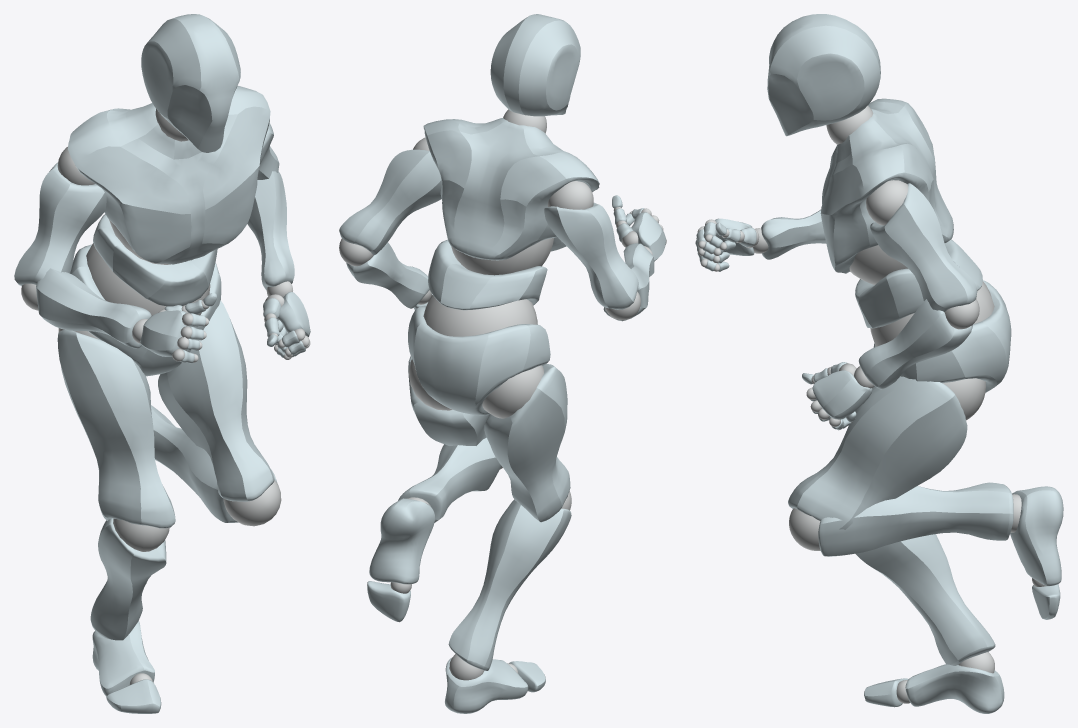
3 renders of one model, left to right at view 1: azimuth 30°, elevation 25°; view 2: azimuth 150°, elevation 25°; view 3: azimuth 270°, elevation 25°, orthographic. The views are drawn at different scales.
Visible parts, largest first — view 1: Alpha_Surface, Alpha_Joints; view 2: Alpha_Surface, Alpha_Joints; view 3: Alpha_Surface, Alpha_Joints.
Part boxes in pixels (x1,y1,x2,y2): Alpha_Surface: [14, 14, 310, 713]; Alpha_Joints: [21, 109, 310, 684]; Alpha_Surface: [339, 14, 665, 713]; Alpha_Joints: [339, 109, 666, 680]; Alpha_Surface: [695, 14, 1063, 713]; Alpha_Joints: [696, 105, 1045, 703].
Size of the model in its own units: 70.05 by 163 by 78.67.
